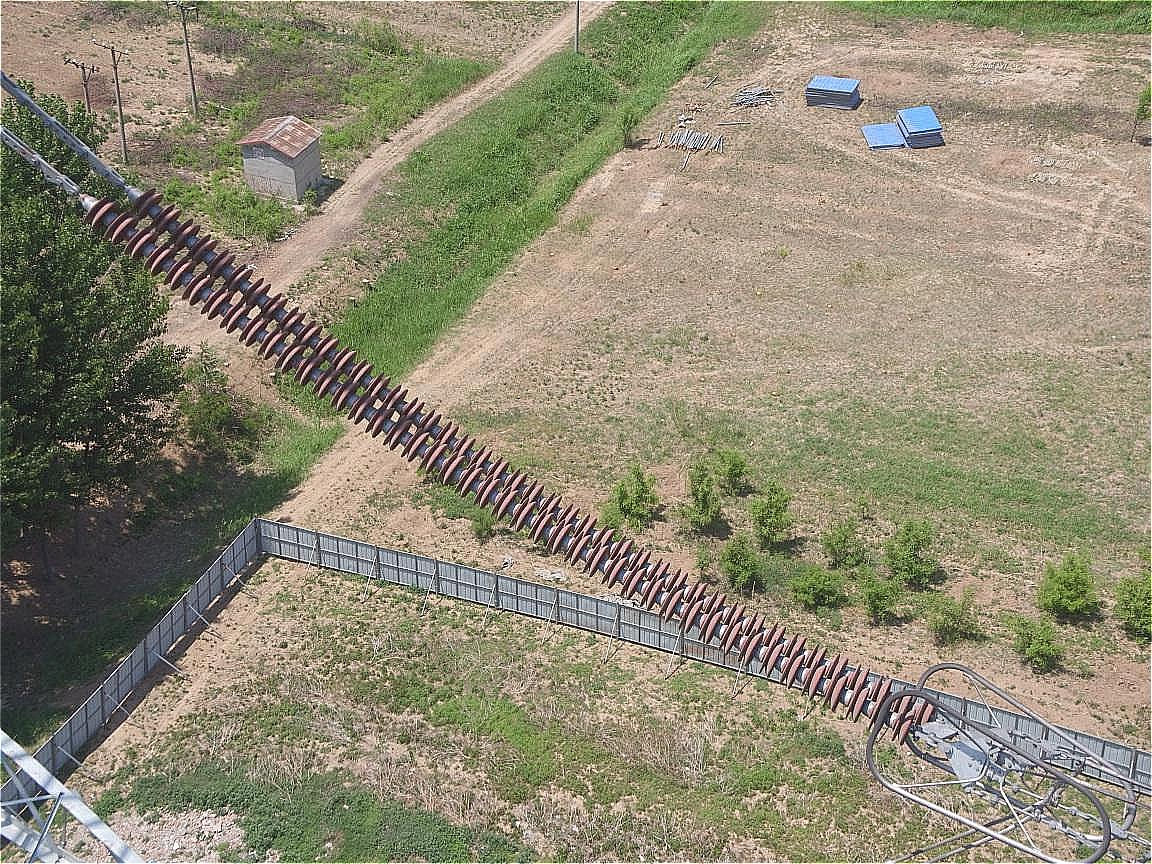insultor2: (88, 188, 939, 744)
